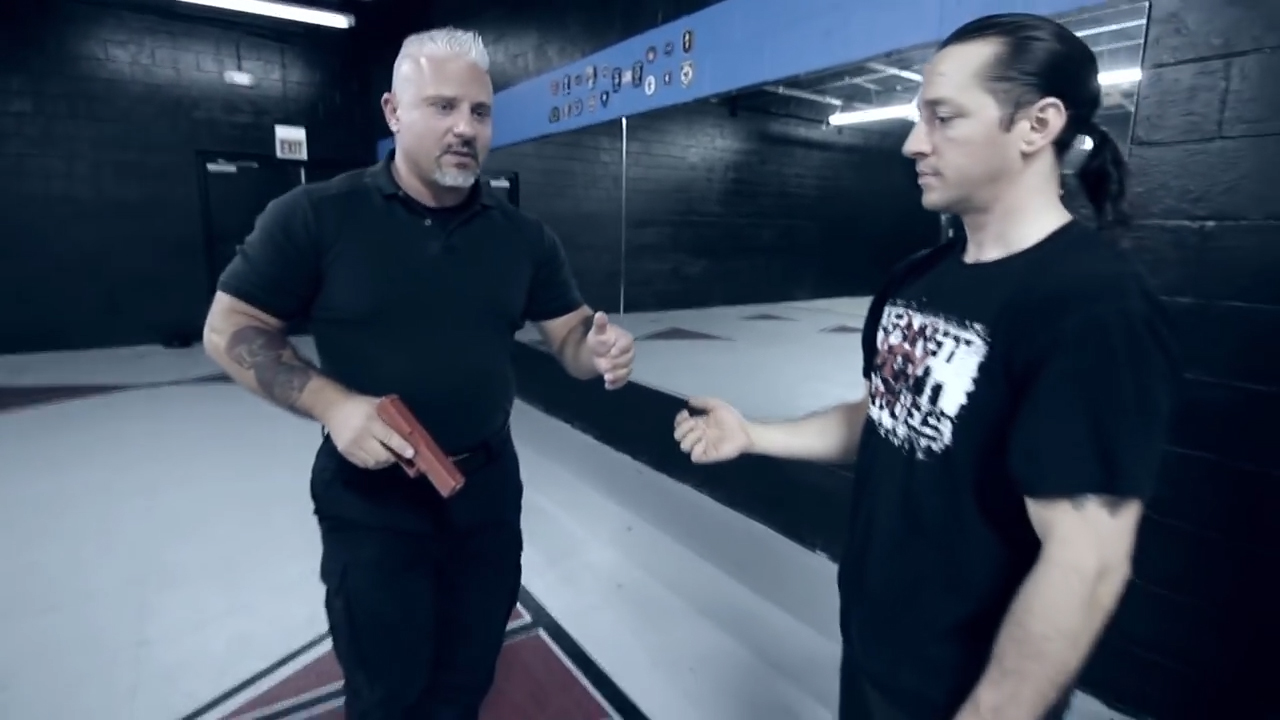pistol: (373, 393, 467, 501)
